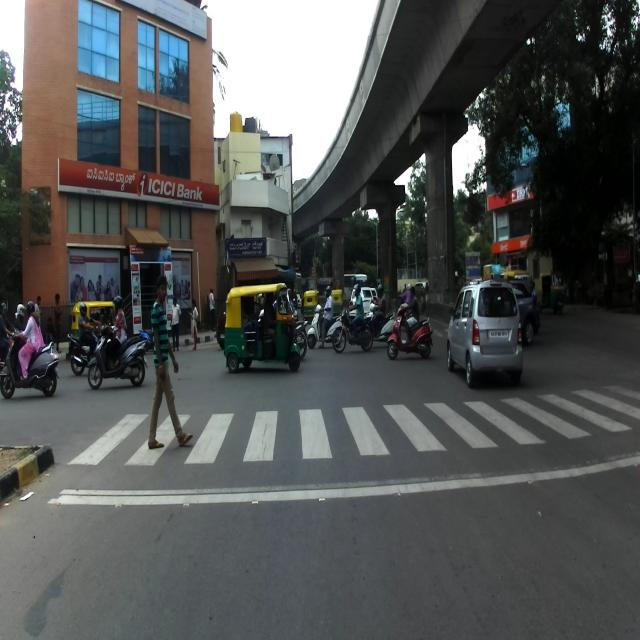Car_Maruti-Suzuki: (446, 281, 522, 387)
autorickshaw: (223, 281, 300, 373)
motorcycle_bajaj: (66, 327, 105, 377)
scooter: (0, 326, 59, 398), (87, 324, 147, 388), (386, 308, 432, 359)
